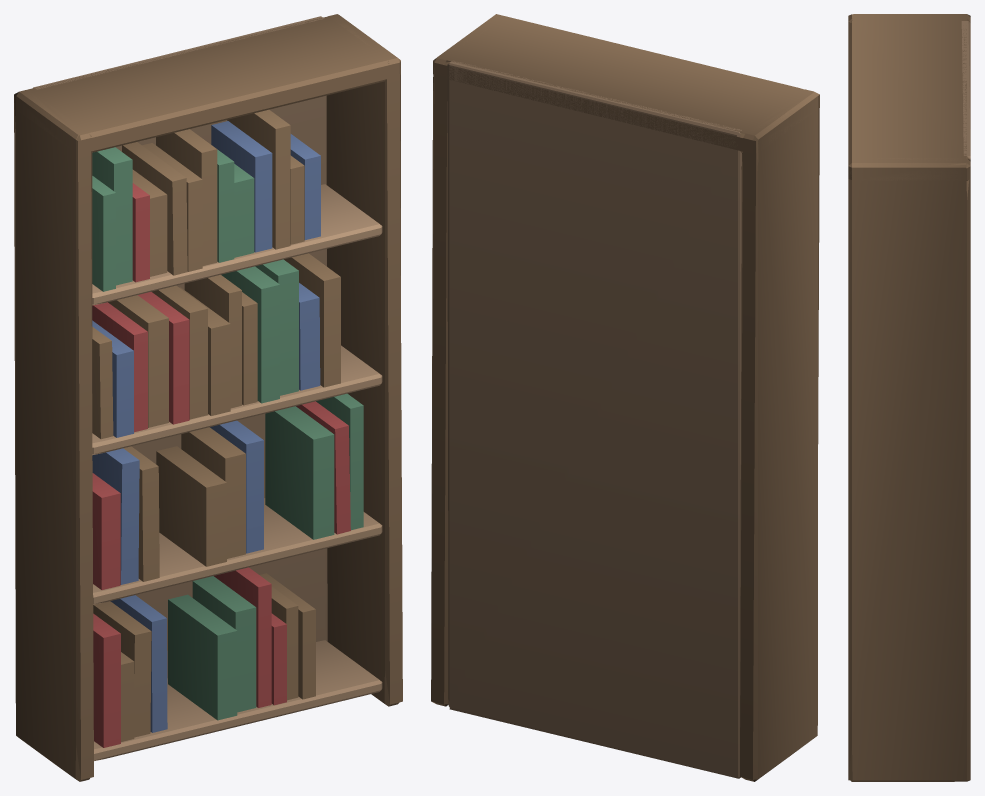
The model's file is kajuete_regal.glb.
3 renders of one model, left to right at view 1: azimuth 30°, elevation 25°; view 2: azimuth 150°, elevation 25°; view 3: azimuth 270°, elevation 25°, orthographic. The views are drawn at different scales.
Parts seen in each view (by area): view 1: G_kajuete_regal; view 2: G_kajuete_regal; view 3: G_kajuete_regal.
Boxes of the visible parts, x1,y1,x2,y2 form: G_kajuete_regal: (14,14,402,781); G_kajuete_regal: (431,14,819,781); G_kajuete_regal: (848,14,970,781).
Bounding box in the file's own units: 1 × 1.9 × 0.34.
